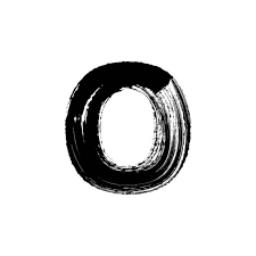o: (50, 42, 200, 204)
